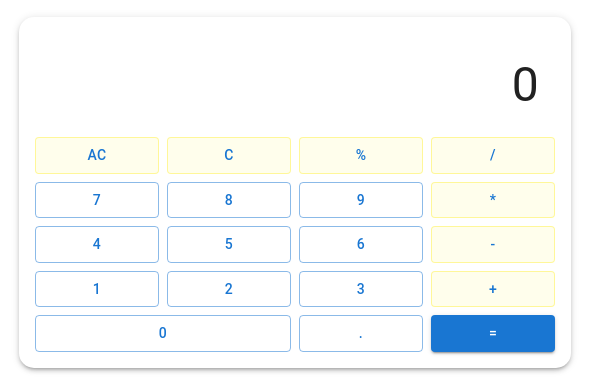
Test: Test calculator app. › Does division correctly.
Click the button "1" at (97, 289), box left=35, top=270, right=159, bottom=307
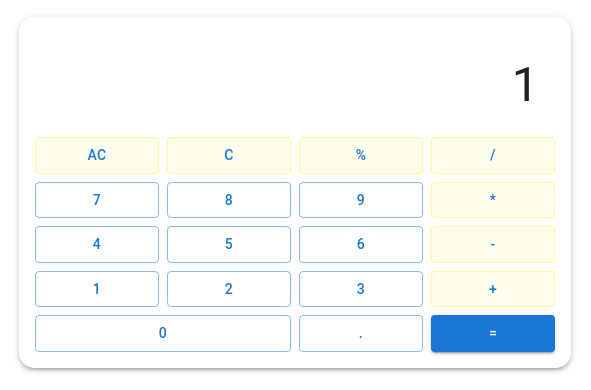
Click the button "0" at (163, 333), box left=35, top=315, right=291, bottom=352
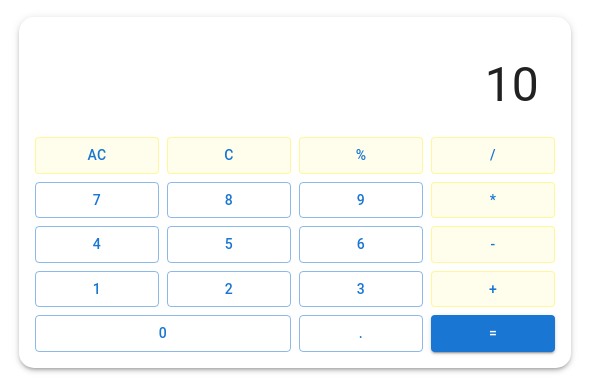
Click the button "0" at (163, 333), box left=35, top=315, right=291, bottom=352
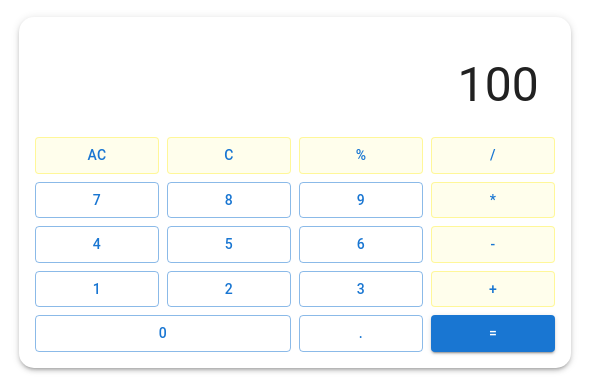
Click the button "/" at (493, 155), box left=431, top=137, right=555, bottom=174
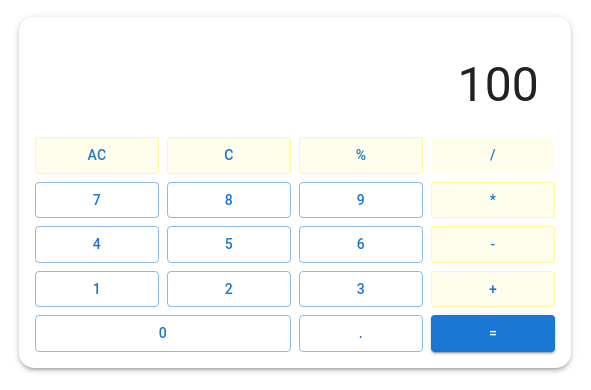
Click the button "5" at (229, 244), box left=167, top=226, right=291, bottom=262
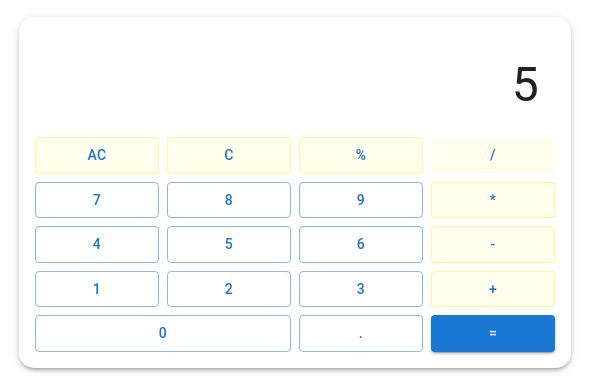
Click the button "=" at (493, 333), box left=431, top=315, right=555, bottom=352
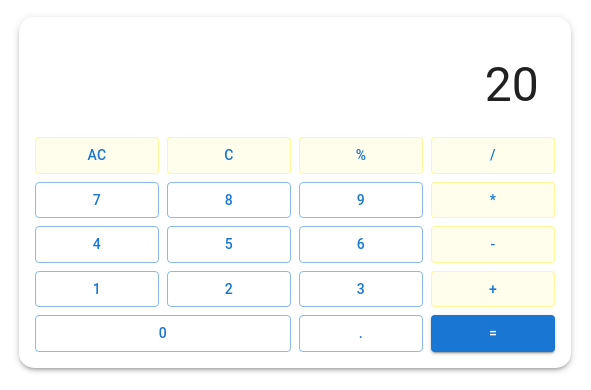
Check: the text with test id "output" reads "20", box left=485, top=56, right=539, bottom=113
